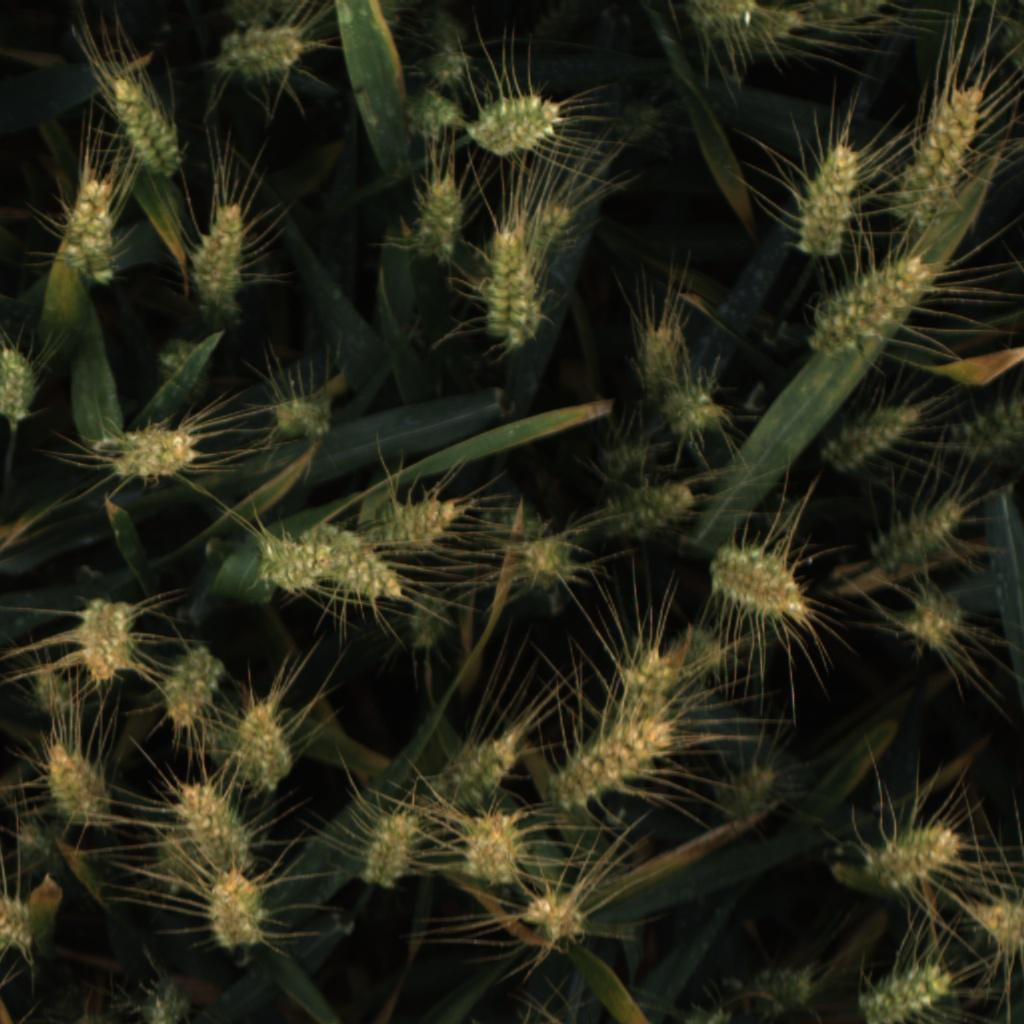0-0: (885, 79, 991, 224), (801, 258, 940, 362), (546, 718, 676, 812), (299, 521, 408, 608), (791, 144, 868, 257), (480, 219, 544, 352), (56, 171, 128, 289), (168, 781, 260, 873), (102, 70, 184, 168), (188, 198, 256, 316), (817, 402, 925, 476), (706, 540, 807, 616), (869, 497, 966, 573), (465, 89, 575, 156), (424, 723, 521, 798), (210, 19, 317, 84), (865, 822, 961, 894), (859, 951, 953, 1024), (37, 738, 113, 828), (101, 422, 202, 487), (598, 479, 699, 543), (450, 809, 527, 891), (947, 379, 1024, 457), (407, 169, 466, 269), (158, 645, 227, 728), (202, 869, 269, 952), (77, 592, 136, 686), (356, 804, 419, 890), (518, 881, 597, 949), (240, 698, 297, 791), (251, 535, 332, 599), (374, 496, 458, 556), (713, 756, 787, 823), (894, 589, 969, 655), (620, 637, 678, 719), (747, 960, 820, 1024), (526, 195, 580, 279), (478, 497, 553, 557), (195, 705, 256, 778), (150, 828, 212, 896), (152, 335, 213, 404), (390, 82, 460, 142), (267, 389, 334, 447), (0, 336, 44, 424), (639, 322, 680, 407), (659, 383, 726, 435), (711, 3, 804, 40), (30, 665, 84, 728), (402, 586, 452, 651), (518, 534, 573, 589), (0, 882, 37, 958), (983, 887, 1024, 954), (671, 623, 728, 671), (140, 974, 195, 1023), (798, 0, 888, 28), (13, 818, 59, 872), (606, 100, 662, 144), (598, 438, 656, 480), (682, 0, 762, 30), (430, 44, 475, 85), (423, 11, 468, 51), (222, 0, 278, 31), (680, 1002, 732, 1024), (269, 0, 307, 15)
